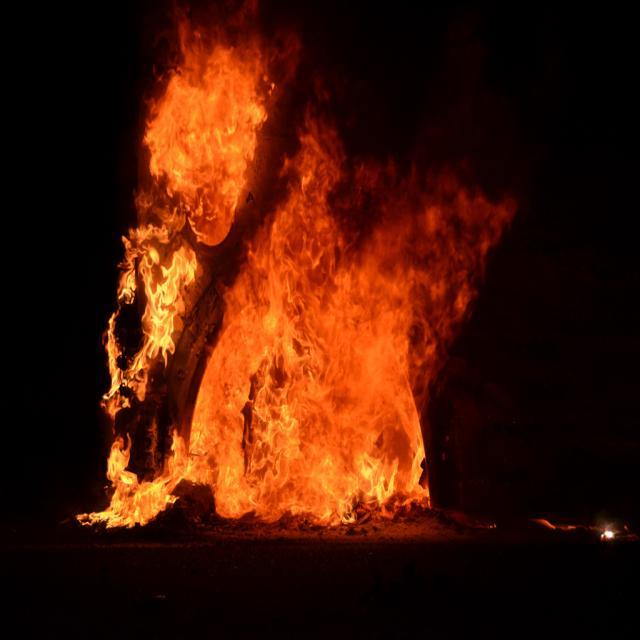Fire: (255, 246, 410, 508), (158, 56, 258, 232), (114, 241, 198, 346)
